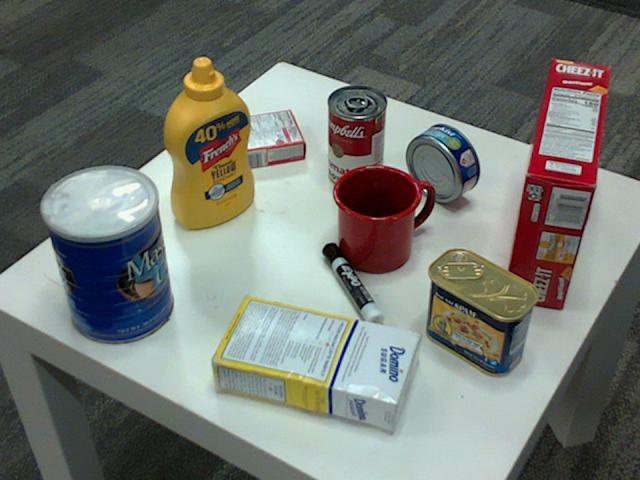cracker_box: (500, 57, 610, 307)
gelatin_box: (223, 106, 306, 167)
large_marker: (322, 244, 383, 332)
master_chef_can: (38, 166, 171, 345)
mug: (330, 162, 430, 270)
mustard_bottle: (162, 57, 254, 228)
potted_meat_can: (422, 247, 539, 375)
sugar_box: (205, 293, 418, 428)
tomato_soup_can: (326, 85, 386, 190)
tuna_fish_can: (404, 123, 478, 201)
